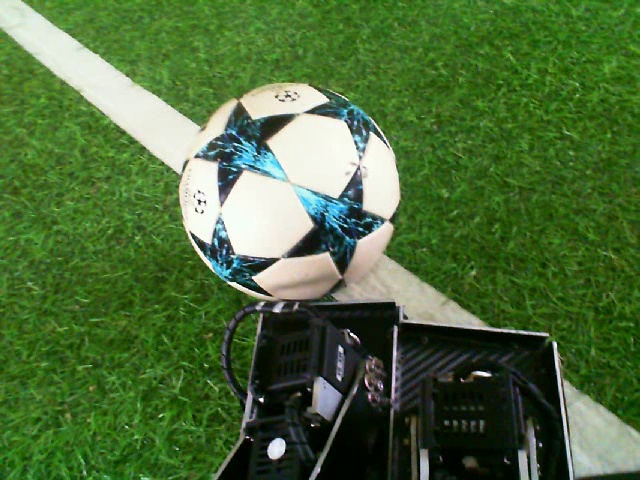ball: (176, 80, 403, 305)
